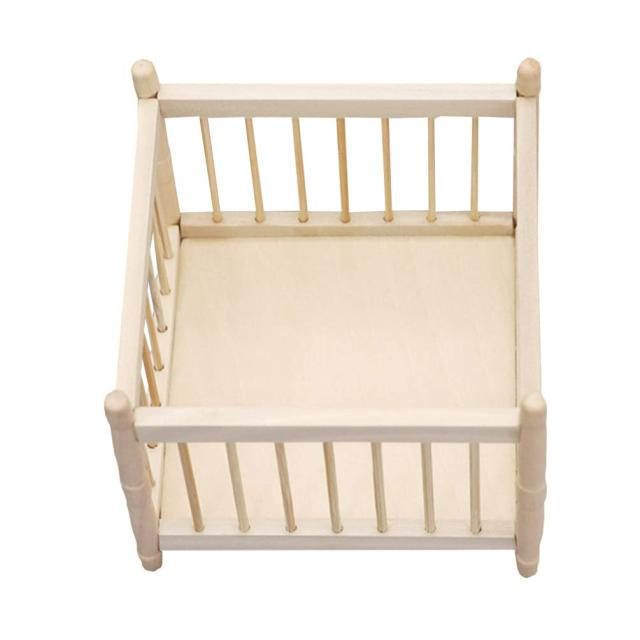crib: (103, 55, 548, 577)
